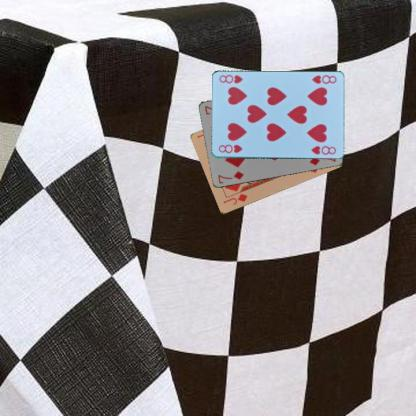7d: (215, 169, 245, 185)
8h: (309, 73, 338, 85), (216, 142, 243, 154)
Jd: (220, 192, 249, 206)
